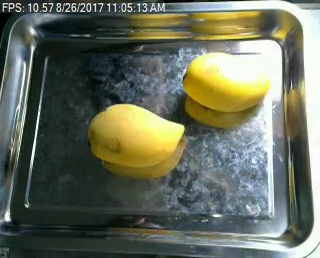Mango: (173, 43, 276, 114), (86, 100, 186, 170)
